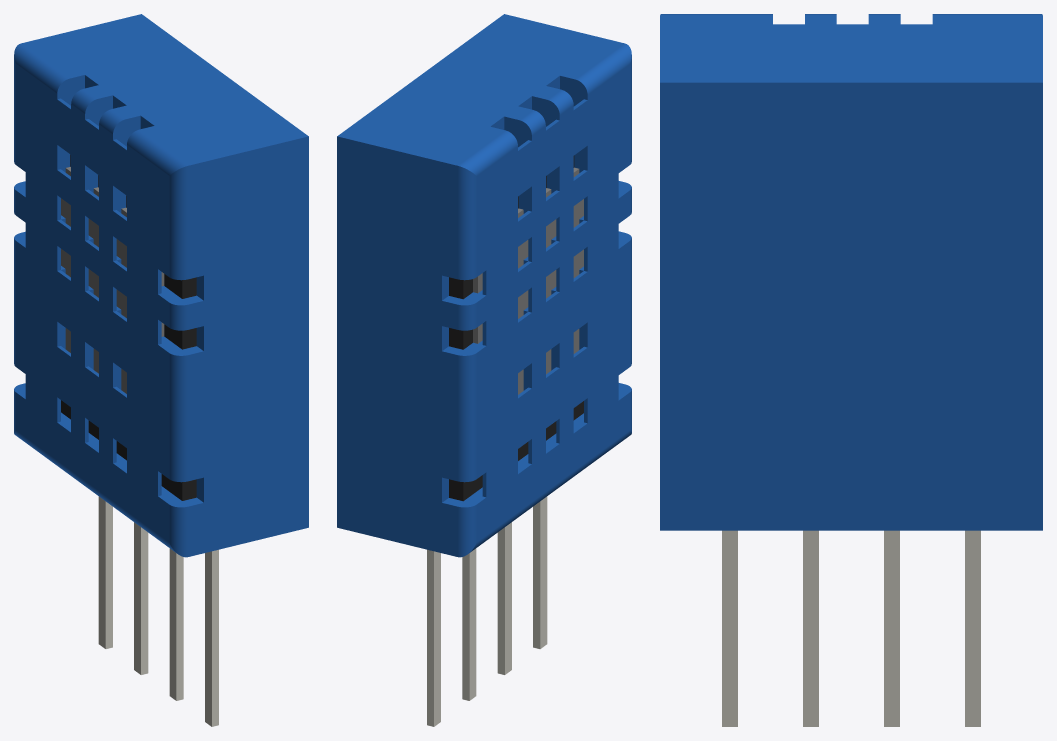
Rendered from Sensor__Aosong_DHT11_5.5x12.0_P2.54mm.glb.
3 renders of one model, left to right at view 1: azimuth 30°, elevation 25°; view 2: azimuth 150°, elevation 25°; view 3: azimuth 270°, elevation 25°, orthographic. The views are drawn at different scales.
Visible parts, largest first — view 1: Aosong_DHT11_5.5x12.0_P2.54mm; view 2: Aosong_DHT11_5.5x12.0_P2.54mm; view 3: Aosong_DHT11_5.5x12.0_P2.54mm.
Boxes of the visible parts, x1,y1,x2,y2 form: Aosong_DHT11_5.5x12.0_P2.54mm: (14,14,308,726); Aosong_DHT11_5.5x12.0_P2.54mm: (337,14,631,726); Aosong_DHT11_5.5x12.0_P2.54mm: (660,14,1042,726).
Size of the model in its own units: 0.0055 by 0.0235 by 0.012.
